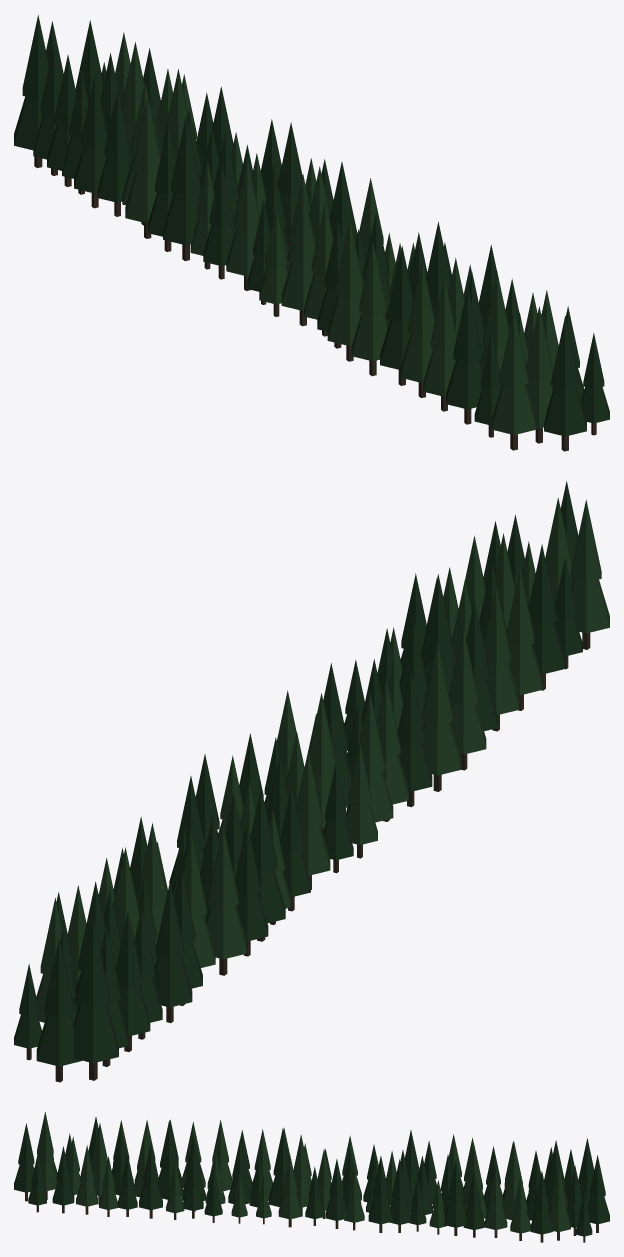
File: forest_edge_04.glb
3 renders of one model, top to bottom at view 1: azimuth 30°, elevation 25°; view 2: azimuth 150°, elevation 25°; view 3: azimuth 270°, elevation 25°, orthographic. The views are drawn at different scales.
Visible parts, largest first — view 1: chunk_0_0; view 2: chunk_0_0; view 3: chunk_0_0.
Boxes of the visible parts, x1,y1,x2,y2 form: chunk_0_0: [14, 15, 609, 451]; chunk_0_0: [14, 481, 609, 1082]; chunk_0_0: [14, 1112, 609, 1242].
Size of the model in its own units: 22.85 by 35.38 by 164.
